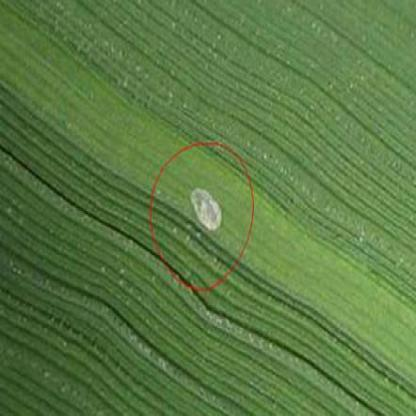leaf-folder: (188, 174, 222, 242)
